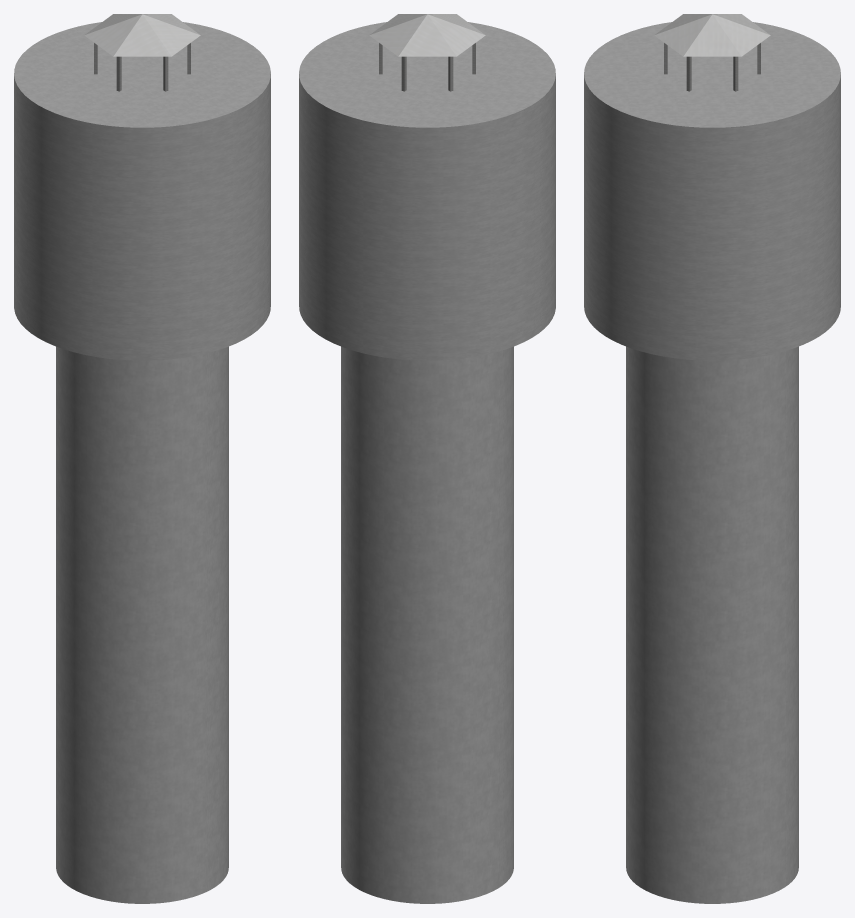
Rendered from water-tower-concrete-37x11-cbj_LOD00.gltf.
The picture shows the model from 3 angles, left to right: view 1: azimuth 30°, elevation 25°; view 2: azimuth 150°, elevation 25°; view 3: azimuth 270°, elevation 25°; orthographic projection.
Parts seen in each view (by area): view 1: Cylinder; view 2: Cylinder; view 3: Cylinder.
Boxes of the visible parts, x1=… form: Cylinder: x1=14, y1=14, x2=270, y2=903; Cylinder: x1=299, y1=14, x2=555, y2=903; Cylinder: x1=584, y1=14, x2=840, y2=903.
Bounding box in the file's own units: 11 × 40.3 × 11.
